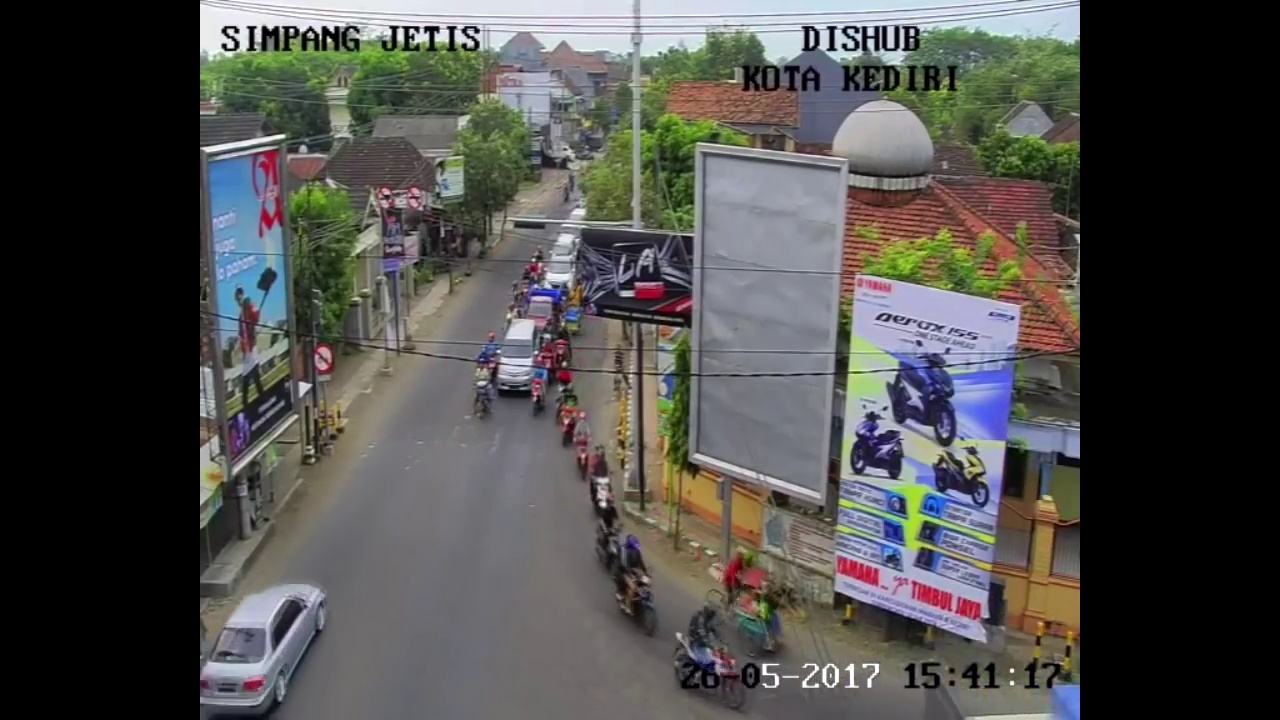car: (202, 582, 327, 712), (500, 319, 537, 400), (525, 294, 555, 335), (545, 256, 574, 294)
motorbike: (676, 607, 748, 710), (616, 536, 659, 640), (595, 499, 622, 579), (591, 446, 613, 521), (561, 390, 579, 447), (575, 414, 591, 478), (476, 361, 493, 420), (534, 364, 548, 419), (554, 326, 570, 368), (539, 334, 554, 374)
